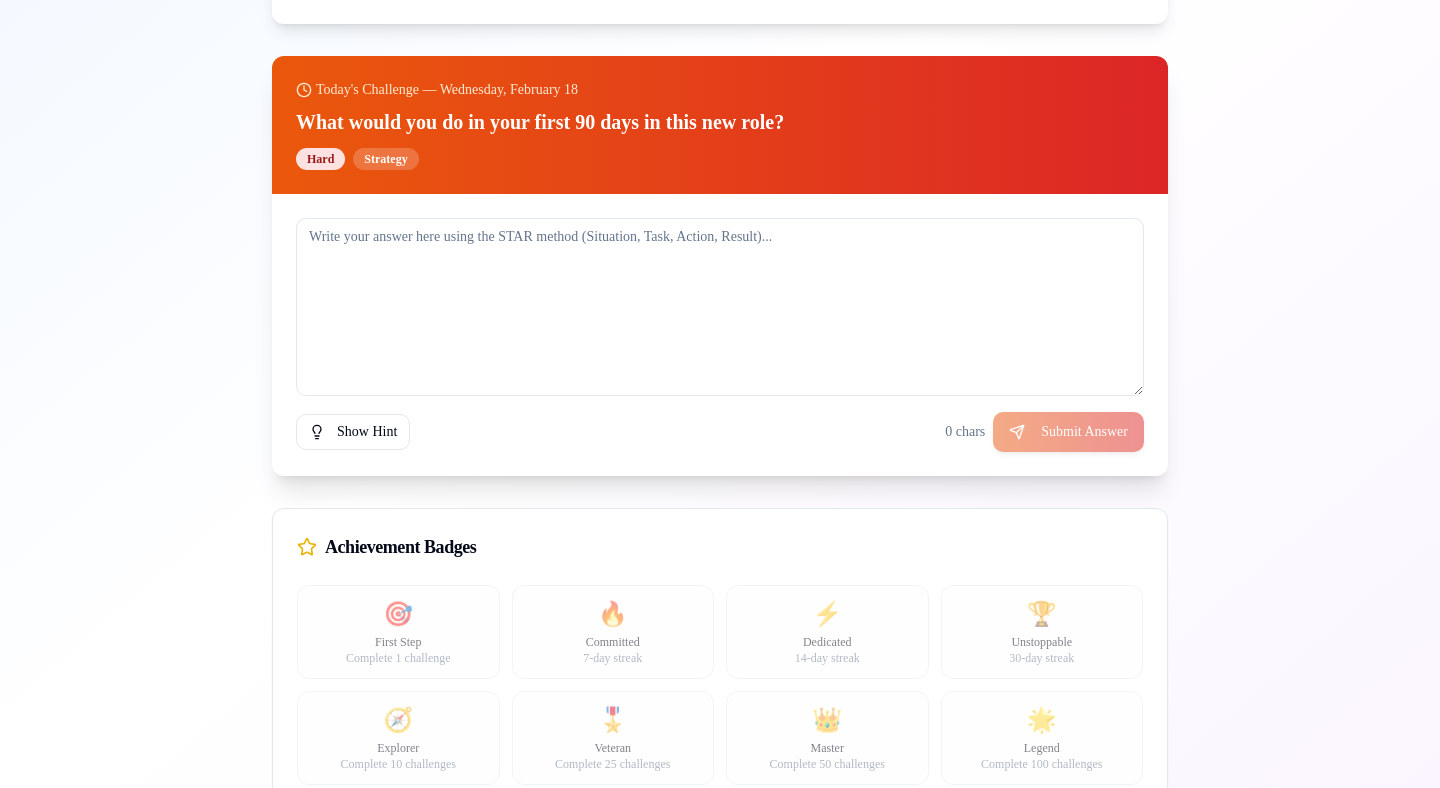
Test: DailyChallengeClient › should toggle hint visibility
(page scrolled)
Click the button "Show Hint". click: (353, 432)
box: [296,414,410,450]
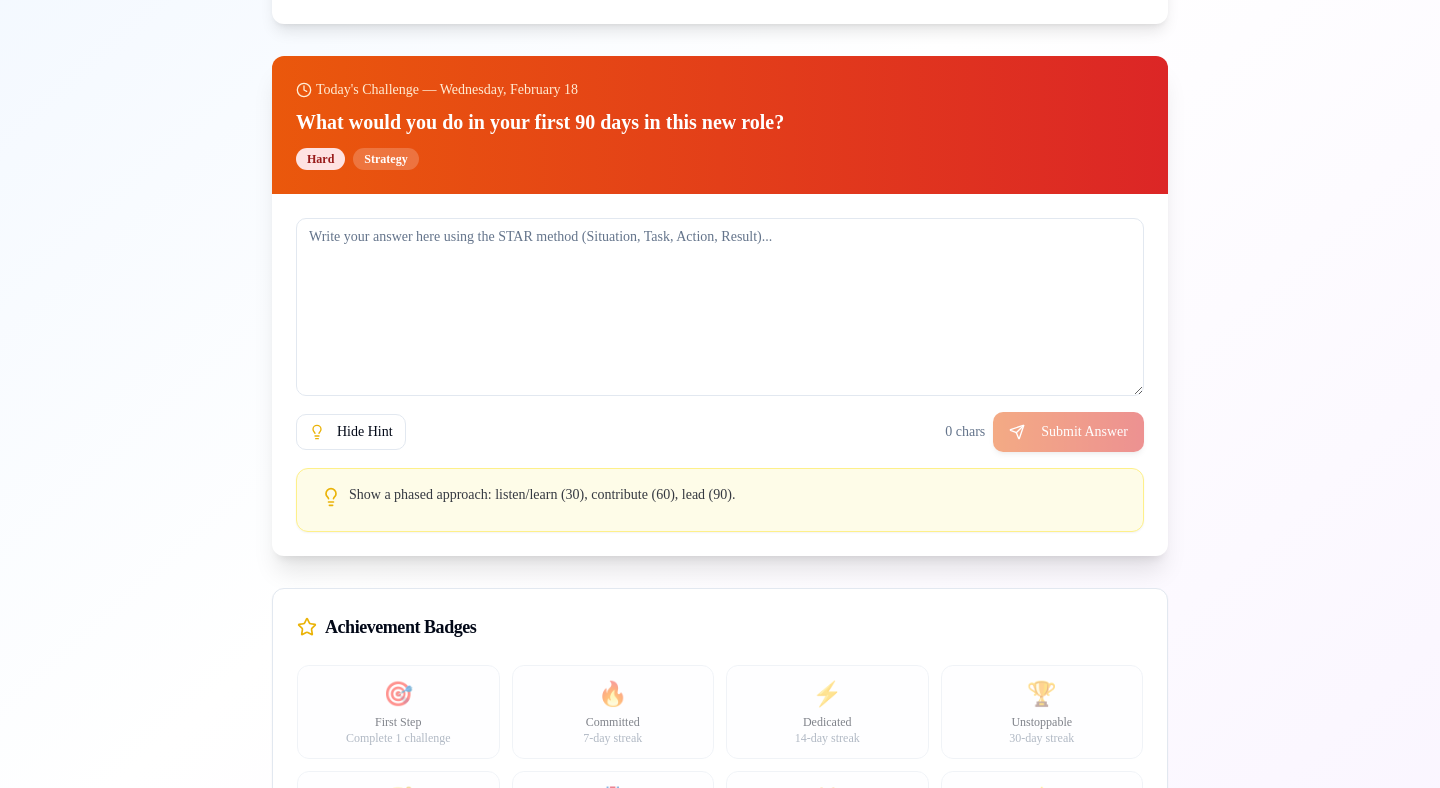
Now the button "Hide Hint" is shown
Click the button "Hide Hint". click: (351, 432)
box: [296,414,406,450]
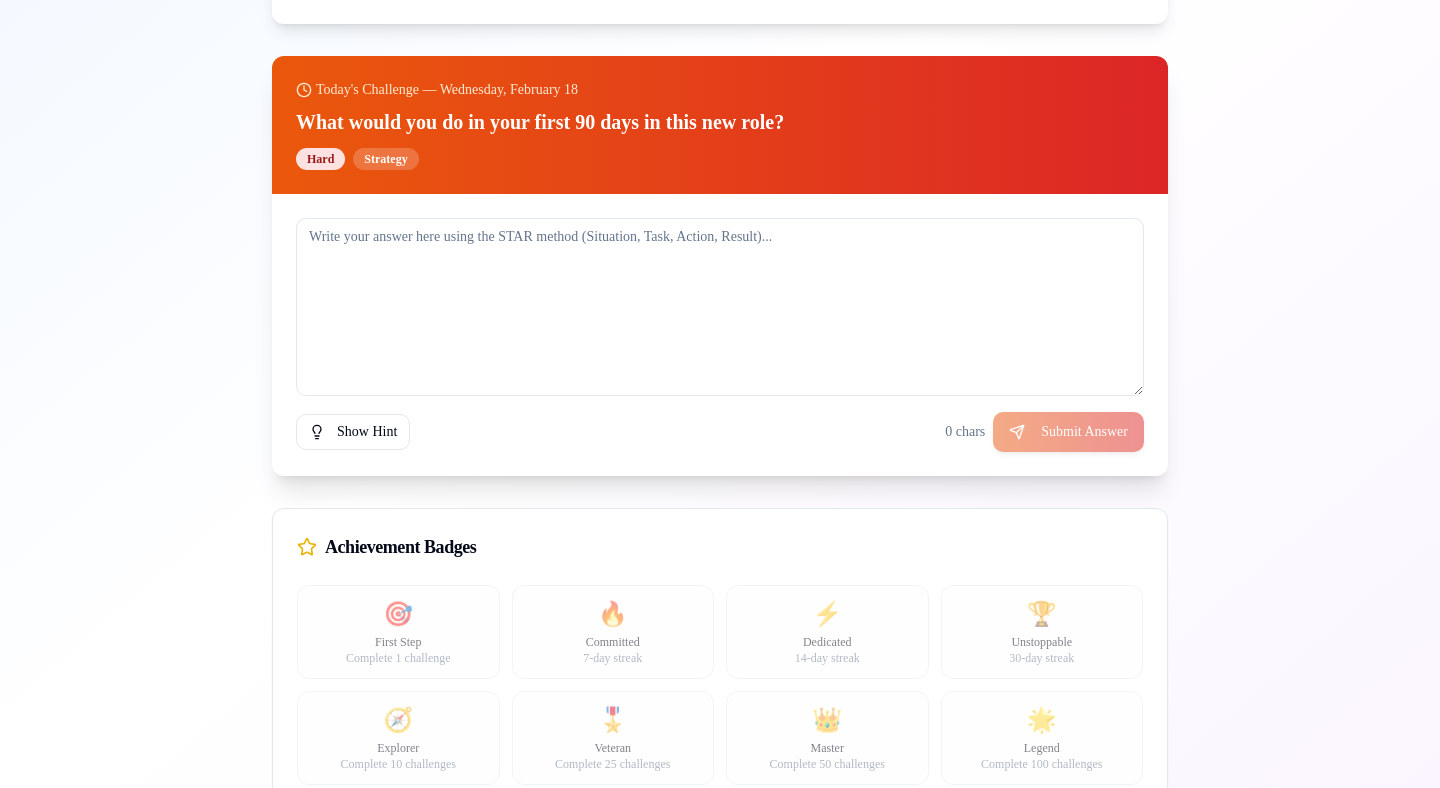
Now the button "Show Hint" is shown, box [296,414,410,450]
